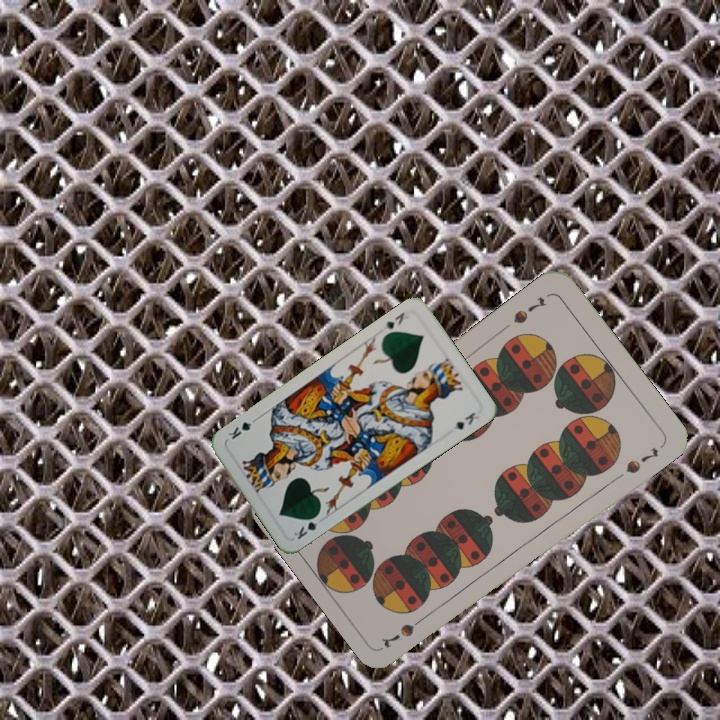GK: (289, 510, 326, 542), (379, 308, 407, 332)
S7: (509, 293, 549, 327), (396, 610, 431, 640)
